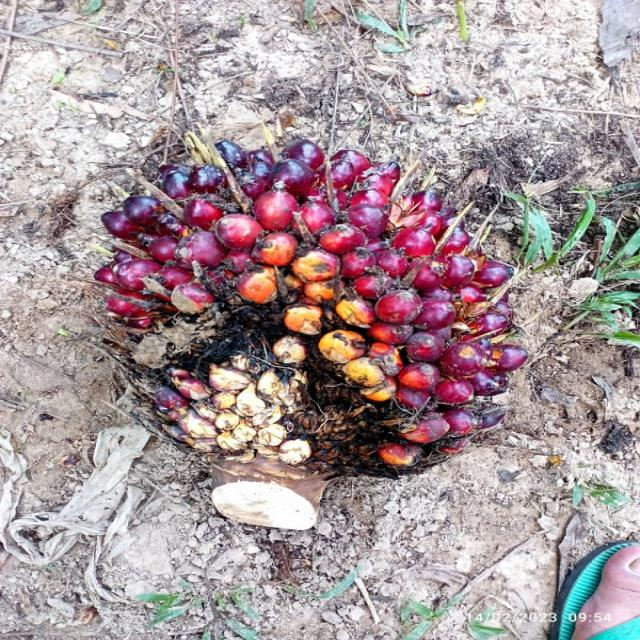fraksi 1: (71, 77, 514, 501)
